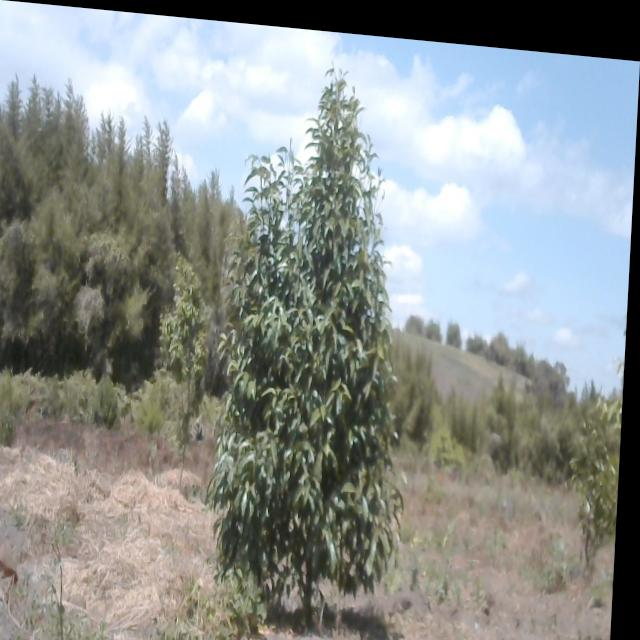Lemon Myrtle: (153, 237, 221, 480), (574, 438, 624, 574)
Manglifera indica: (219, 67, 433, 609)
